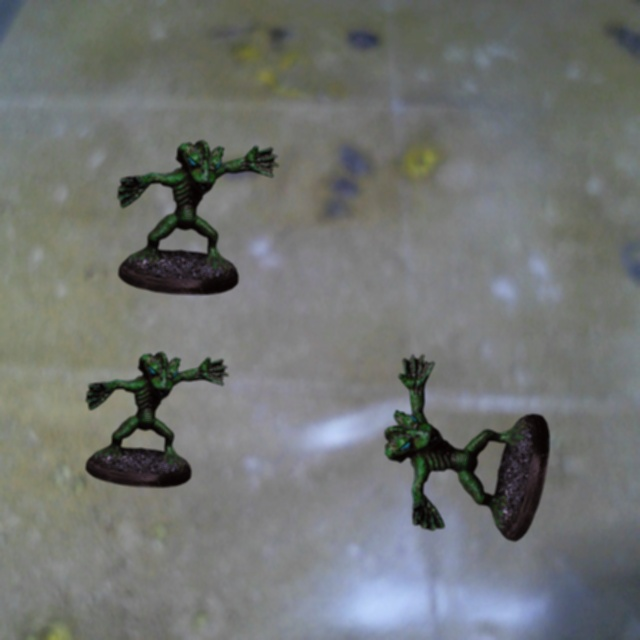pieza_juego: (384, 354, 549, 541), (117, 140, 278, 294), (85, 352, 228, 487)
